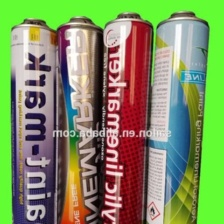aerosol_cans: (143, 7, 213, 223), (99, 9, 156, 224), (7, 14, 62, 224), (53, 13, 108, 223)
